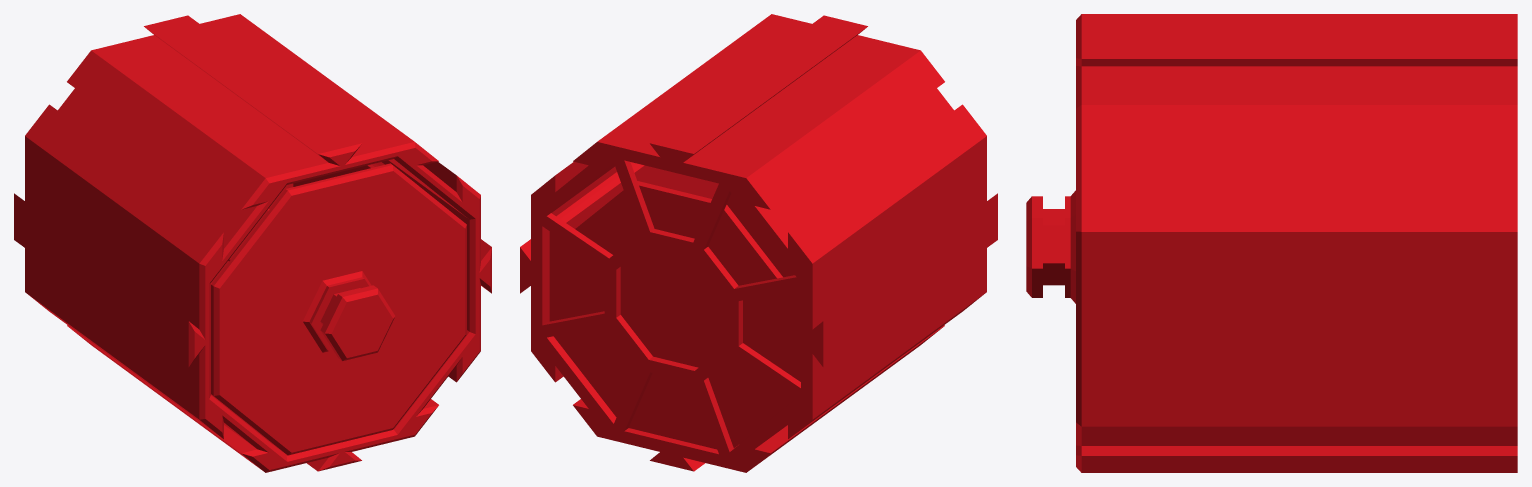
3 renders of one model, left to right at view 1: azimuth 30°, elevation 25°; view 2: azimuth 150°, elevation 25°; view 3: azimuth 270°, elevation 25°, orthographic. The views are drawn at different scales.
Visible parts, largest first — view 1: octogonal-bin; view 2: octogonal-bin; view 3: octogonal-bin.
Part boxes in pixels (x1,y1,x2,y2): octogonal-bin: [14, 14, 491, 472]; octogonal-bin: [520, 14, 997, 472]; octogonal-bin: [1026, 14, 1517, 472].
Size of the model in its own units: 0.9948 by 0.9948 by 1.12.
